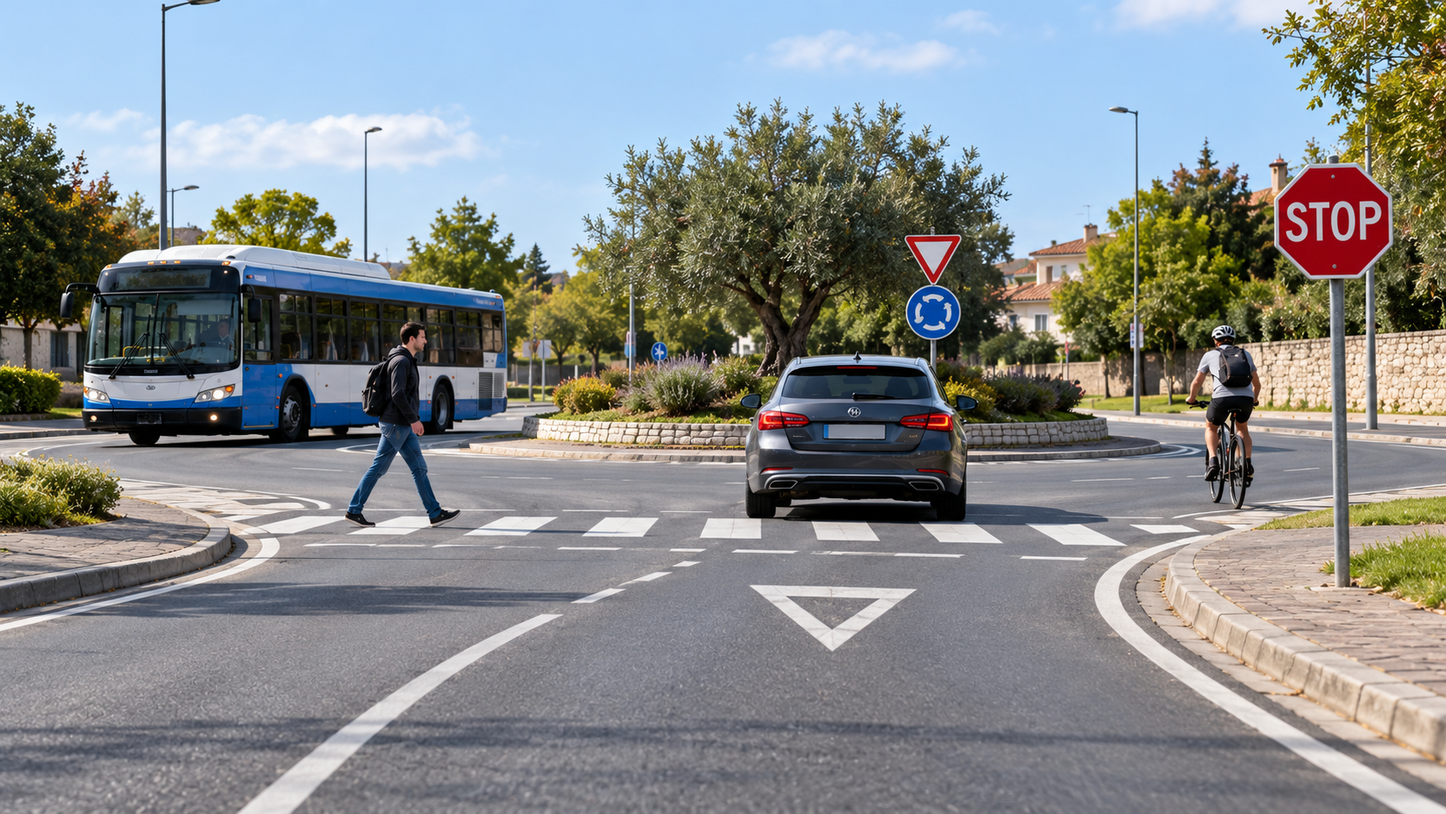bicycle: (1182, 385, 1274, 516)
bus: (53, 240, 511, 449)
car: (737, 349, 981, 522)
person: (336, 320, 464, 526), (1181, 322, 1279, 504)
stop_sign: (1267, 157, 1398, 288)
zebra_crossing: (189, 493, 1327, 554)
